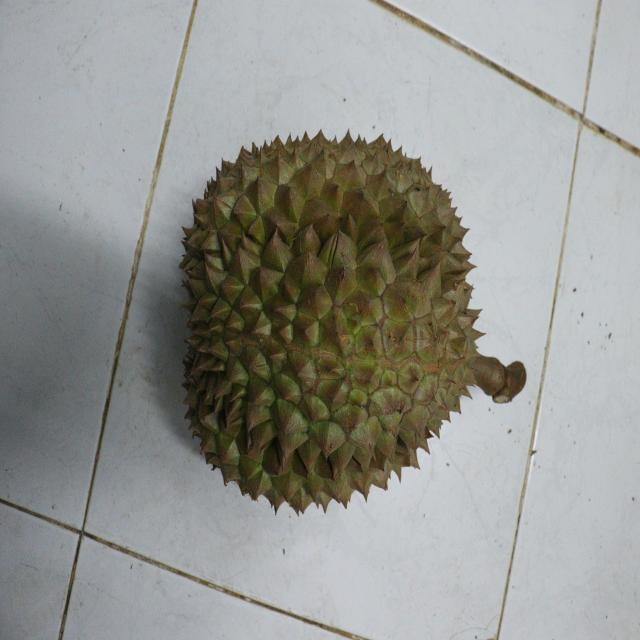mature: (178, 128, 484, 523)
